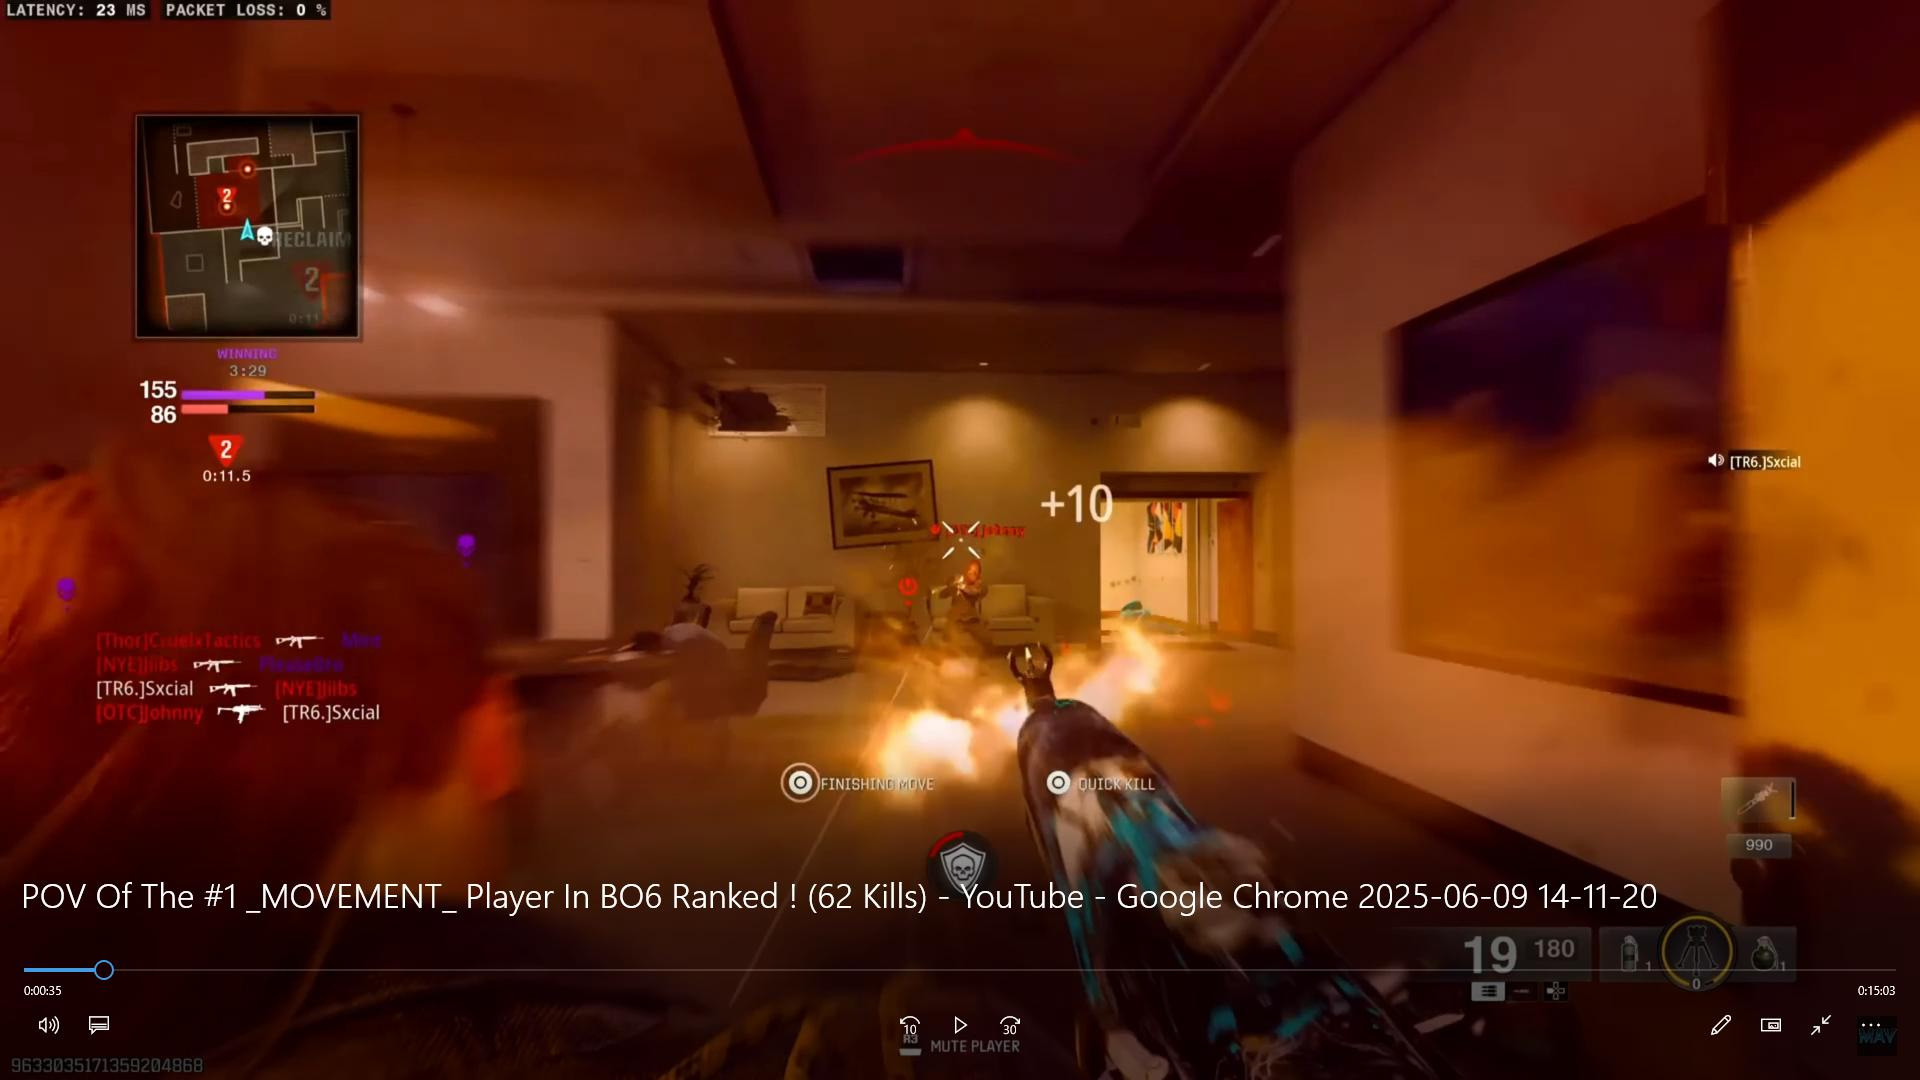Enemy: (932, 545, 998, 636)
